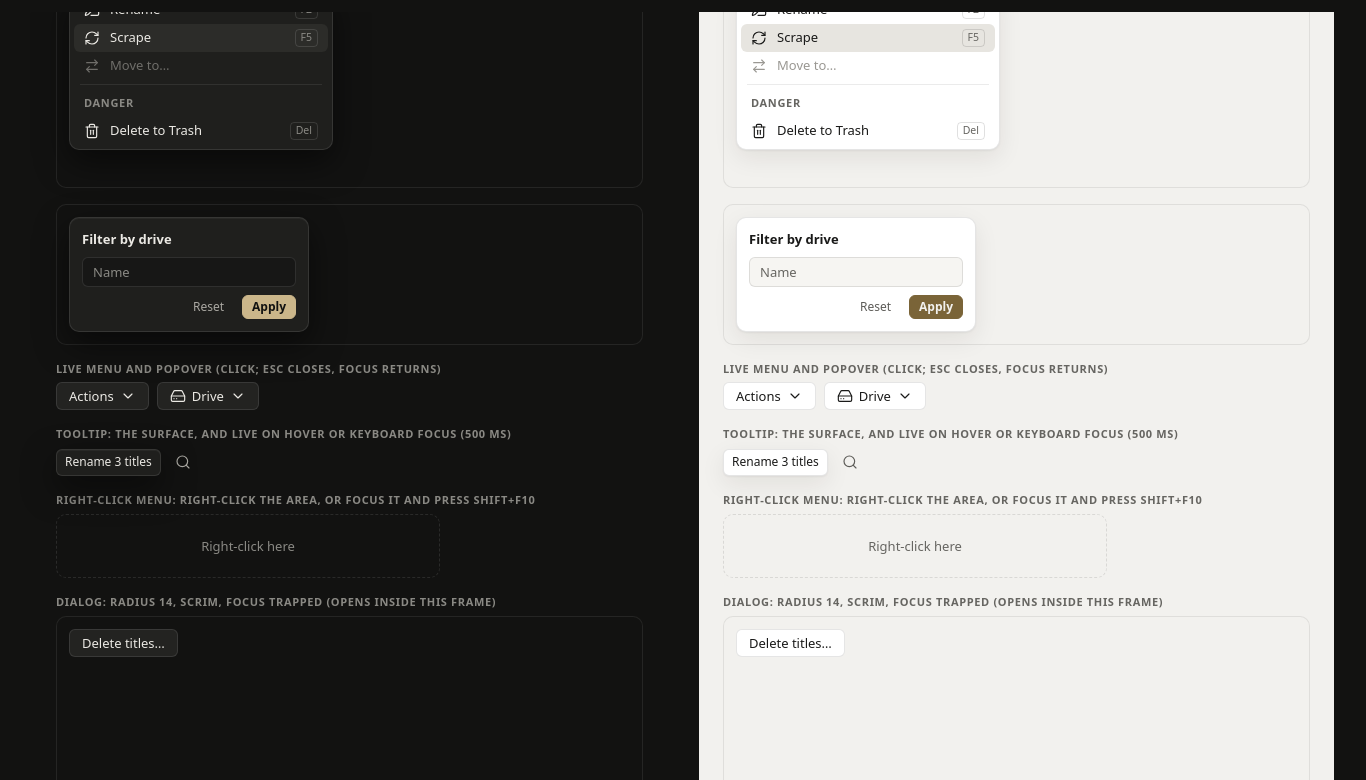
component gallery › names the Trash in the menu on Linux
Click the 2nd button "Actions" at [769, 396], box x1=723 y1=382 x2=816 y2=410
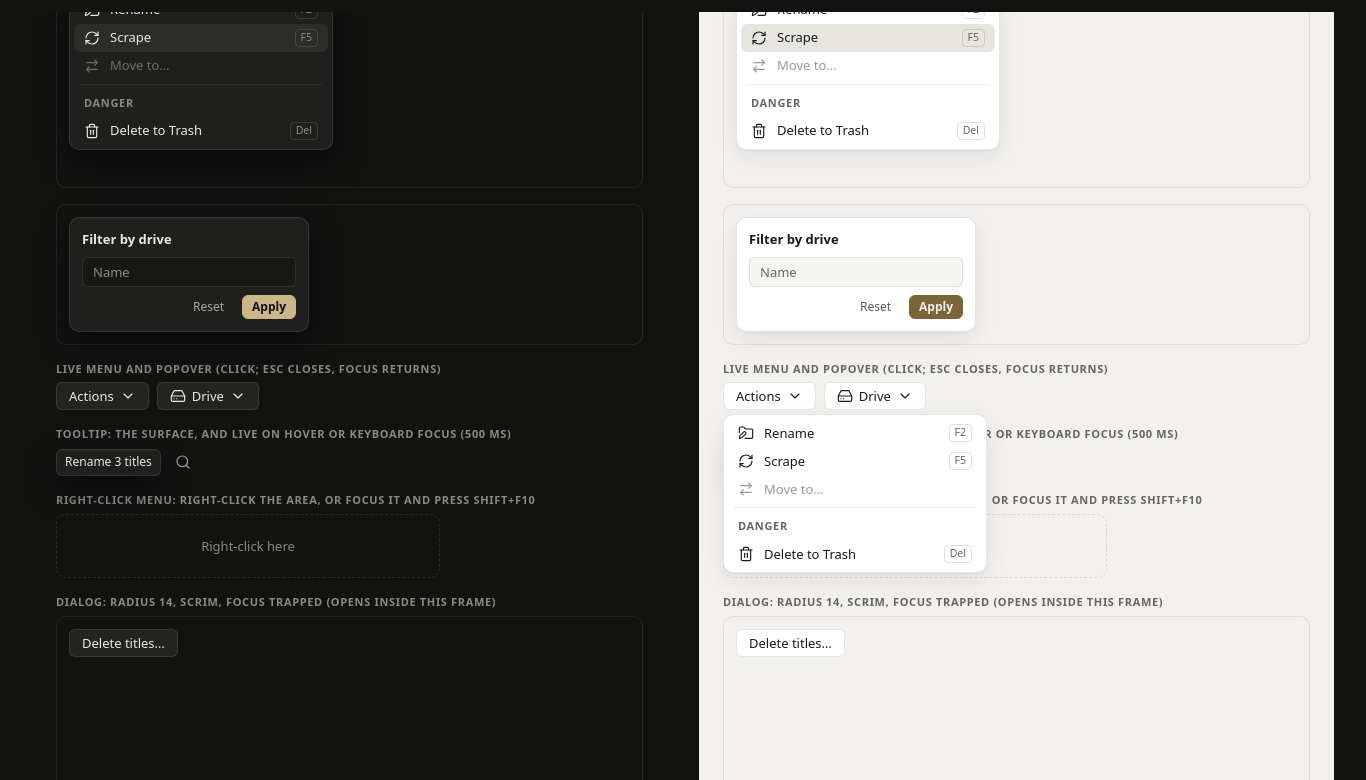
Expected: the menu item "Delete to Trash Del" is shown, x1=728 y1=540 x2=982 y2=568
